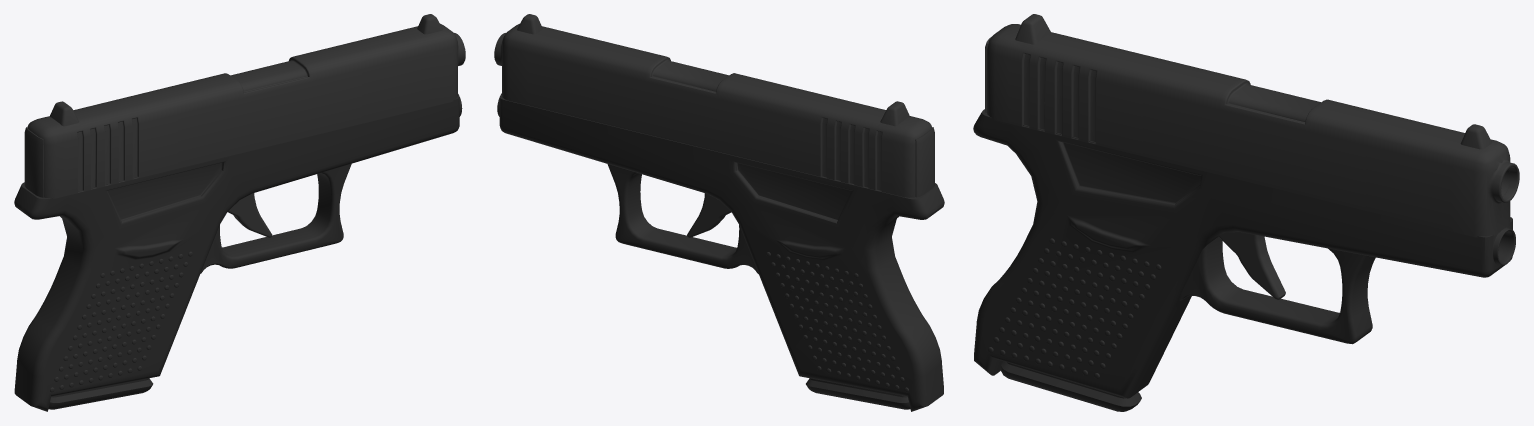
File: glockblack_.fbx
3 views of the same model, side by side, from view 1: azimuth 30°, elevation 25°; view 2: azimuth 150°, elevation 25°; view 3: azimuth 330°, elevation 25° (orthographic). The views are drawn at different scales.
Parts seen in each view (by area): view 1: Cube.008, Cube.007, Cube.010, Cube.009; view 2: Cube.008, Cube.007, Cube.010, Cube.009; view 3: Cube.008, Cube.007, Cube.010, Cube.009.
Part boxes in pixels (x1,y1,x2,y2): Cube.008: (14, 94, 462, 411); Cube.007: (24, 14, 465, 198); Cube.010: (48, 378, 153, 409); Cube.009: (228, 193, 272, 237); Cube.008: (497, 93, 944, 411); Cube.007: (494, 14, 934, 197); Cube.010: (806, 378, 910, 409); Cube.009: (687, 193, 731, 237); Cube.008: (973, 109, 1515, 398); Cube.007: (985, 14, 1519, 237); Cube.010: (1000, 361, 1141, 411); Cube.009: (1218, 232, 1285, 299).
Bounding box in the file's own units: 68.65 × 45.92 × 7.12.
Materials: 1 (1 with a texture image).
